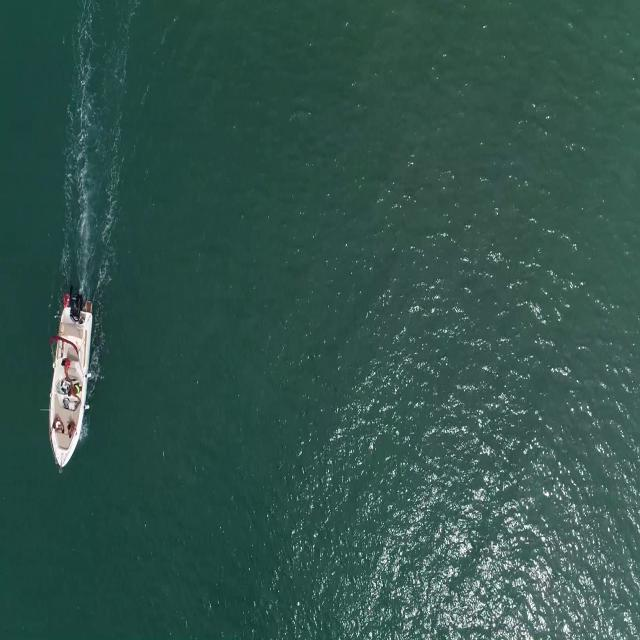boat: (48, 303, 92, 476)
life_buoy: (62, 294, 71, 306)
person: (66, 382, 82, 405), (50, 414, 64, 440), (61, 356, 71, 380), (67, 421, 76, 440)
